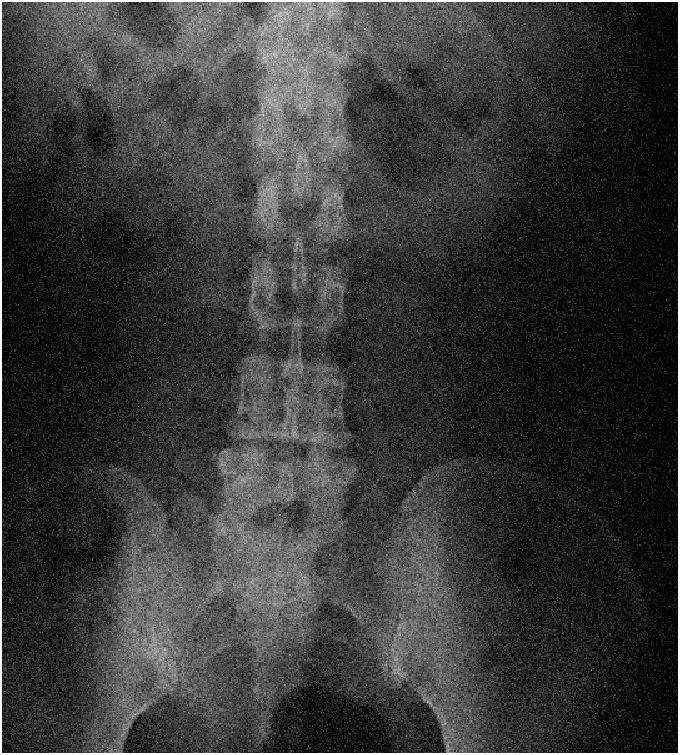lumbar scoliosis: (217, 112, 351, 568)
